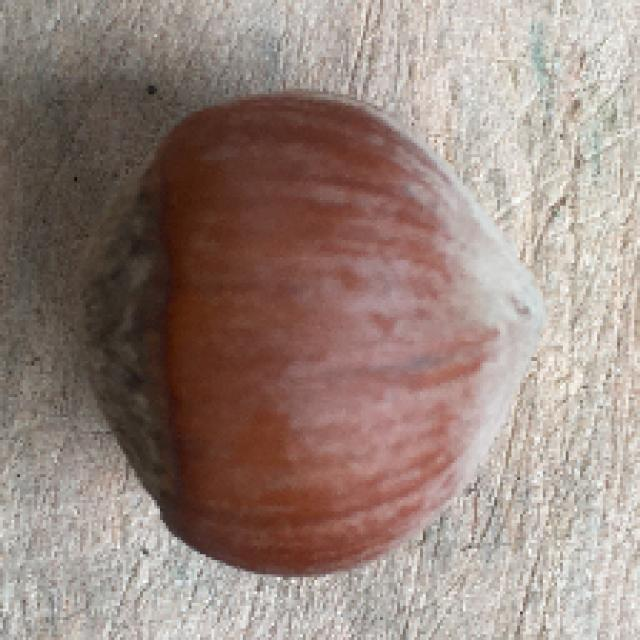qualityHazelnut: (76, 92, 554, 580)
